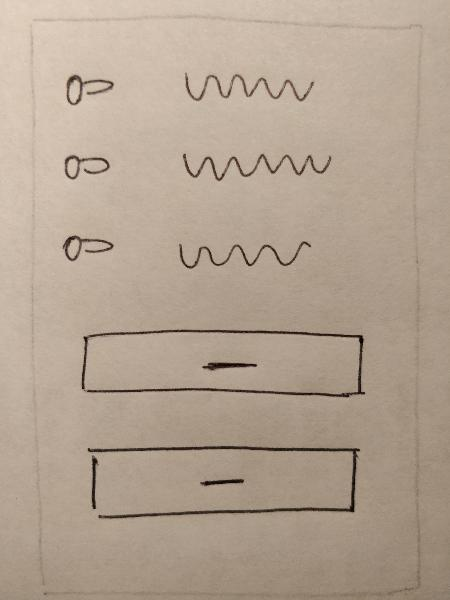button: (77, 435, 364, 535), (67, 321, 376, 406)
switch: (56, 57, 120, 112), (54, 224, 120, 266), (54, 146, 116, 190)
text: (174, 59, 319, 116), (167, 232, 321, 277), (173, 142, 334, 184)
